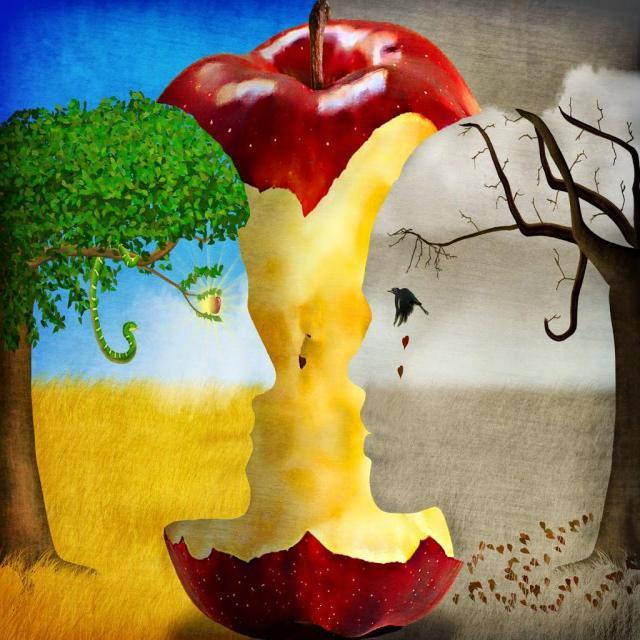Apple pie: (157, 0, 479, 639)
